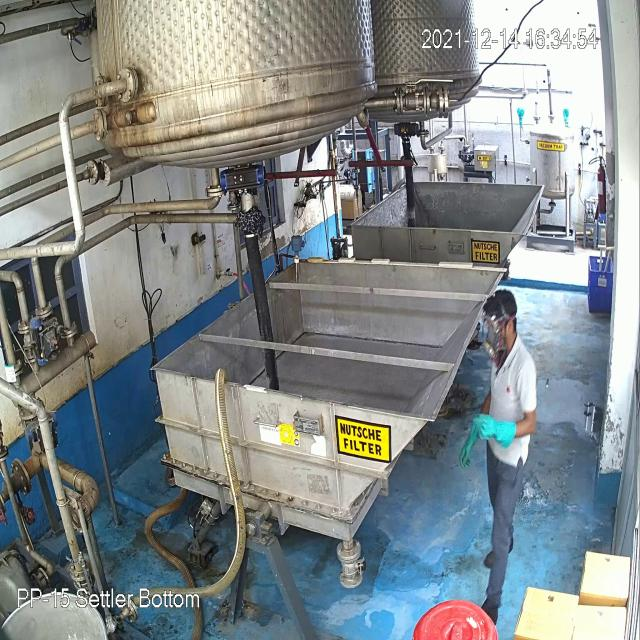gloves: (474, 407, 518, 450)
